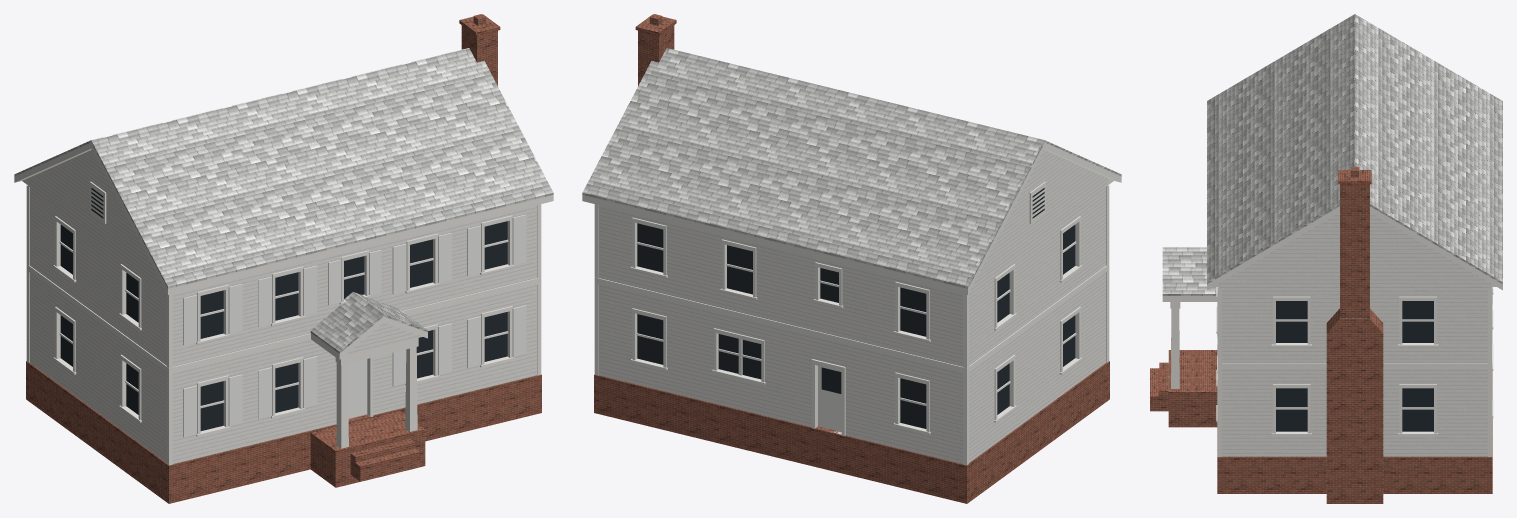
File: house-colonial.glb
3 views of the same model, side by side, from view 1: azimuth 30°, elevation 25°; view 2: azimuth 150°, elevation 25°; view 3: azimuth 270°, elevation 25° (orthographic). The views are drawn at different scales.
Visible parts, largest first — view 1: House; view 2: House; view 3: House.
Part boxes in pixels (x1,y1,x2,y2): House: (14, 14, 553, 503); House: (582, 14, 1121, 503); House: (1150, 14, 1502, 503).
Size of the model in its own units: 13.4 by 10.93 by 10.61.
6 materials, 3 textured.
